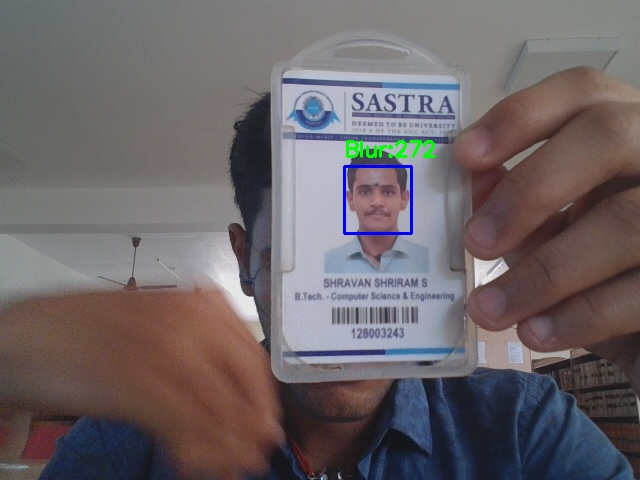fake: (344, 166, 411, 233)
